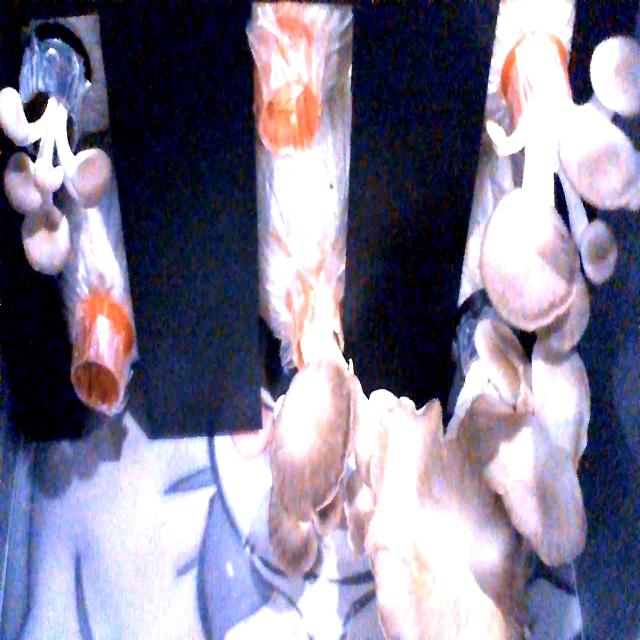big: (352, 338, 604, 637), (462, 24, 640, 351), (262, 354, 388, 584)
nfound: (249, 62, 333, 156), (62, 342, 134, 438)
small: (0, 84, 126, 266)
